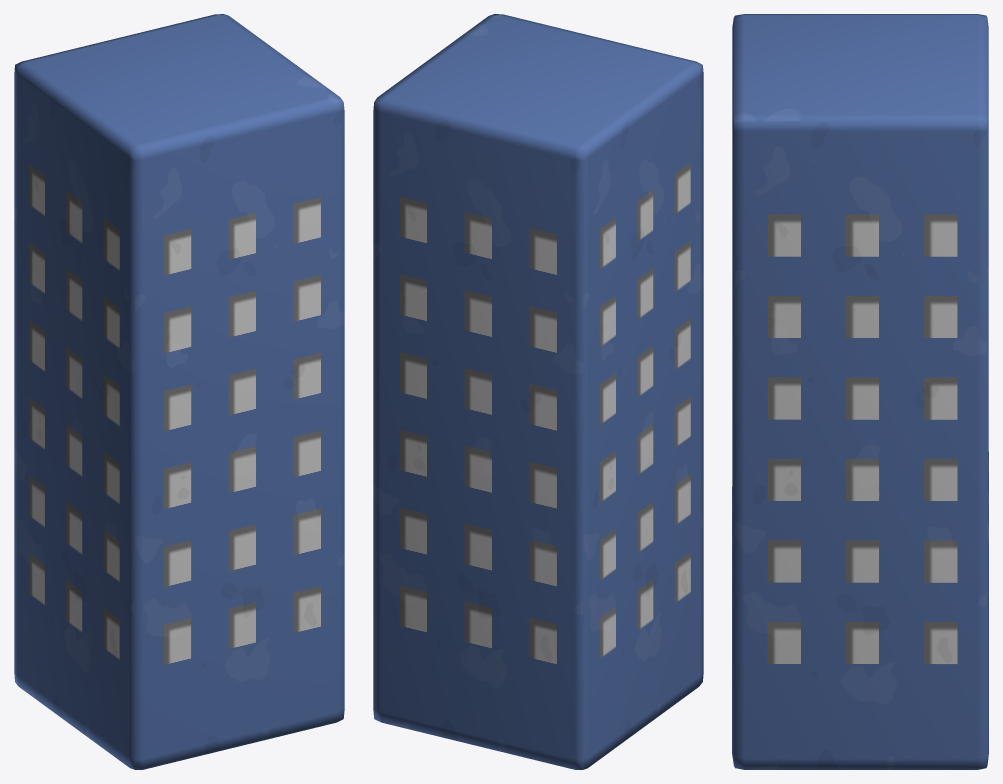
Rendered from gedung1.fbx.
The picture shows the model from 3 angles, left to right: view 1: azimuth 30°, elevation 25°; view 2: azimuth 150°, elevation 25°; view 3: azimuth 270°, elevation 25°; orthographic projection. The views are drawn at different scales.
Visible parts, largest first — view 1: Gedung 1; view 2: Gedung 1; view 3: Gedung 1.
Part boxes in pixels (x1=…): Gedung 1: x1=14, y1=14, x2=344, y2=769; Gedung 1: x1=373, y1=14, x2=703, y2=769; Gedung 1: x1=732, y1=14, x2=988, y2=769.
Size of the model in its own units: 2396 by 6721 by 2394.
1 material, 1 textured.
